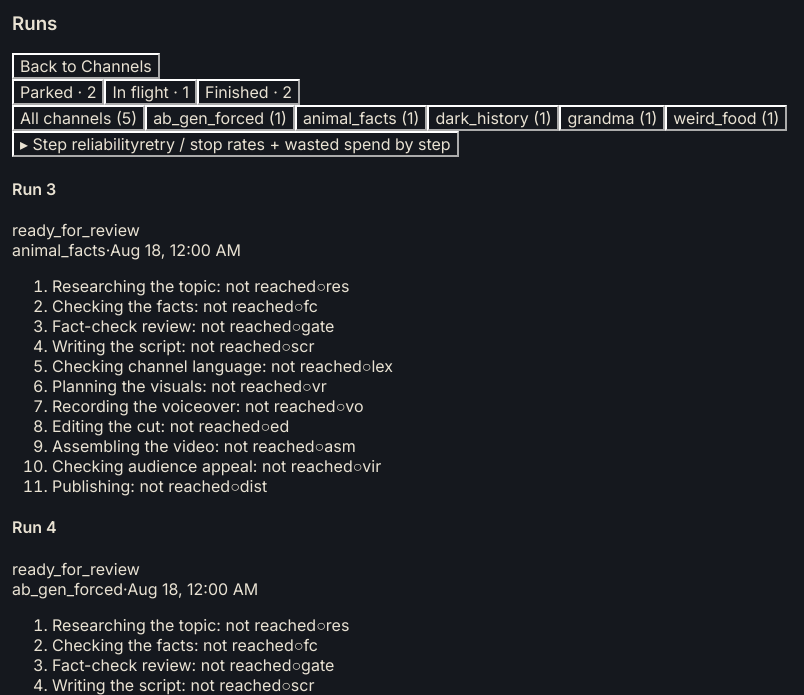
Test: RunsHub archive controls › keeps a global channel selected on a zero-row lifecycle so counts, rows, and off-switch agree
What coordinates should you click on to do the following:
click the tab named "Finished 2"
I would click on:
 (249, 92)
Its box is [197, 79, 300, 105].
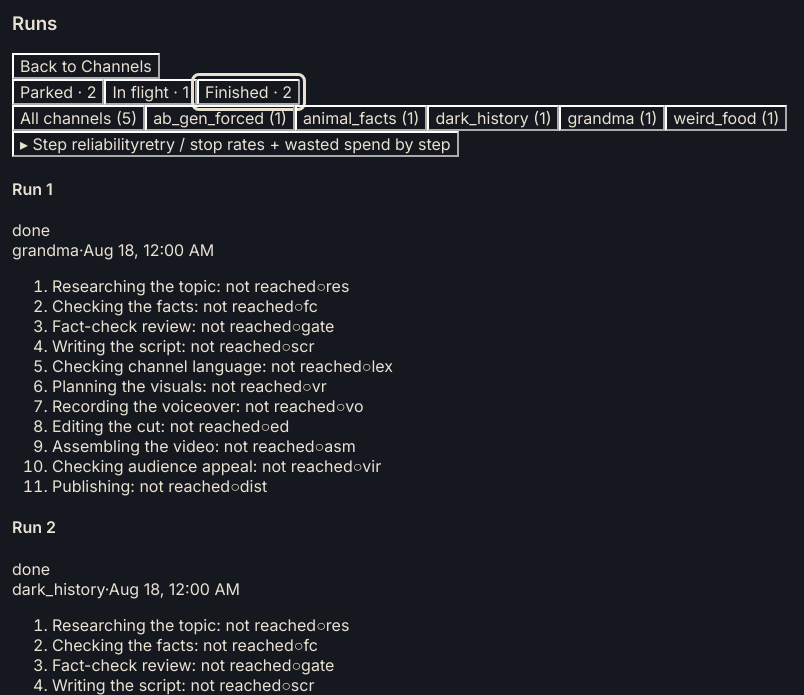
What coordinates should you click on to do the following:
click the button "grandma (1)"
I would click on:
 (612, 118)
Its box is [560, 105, 665, 131].
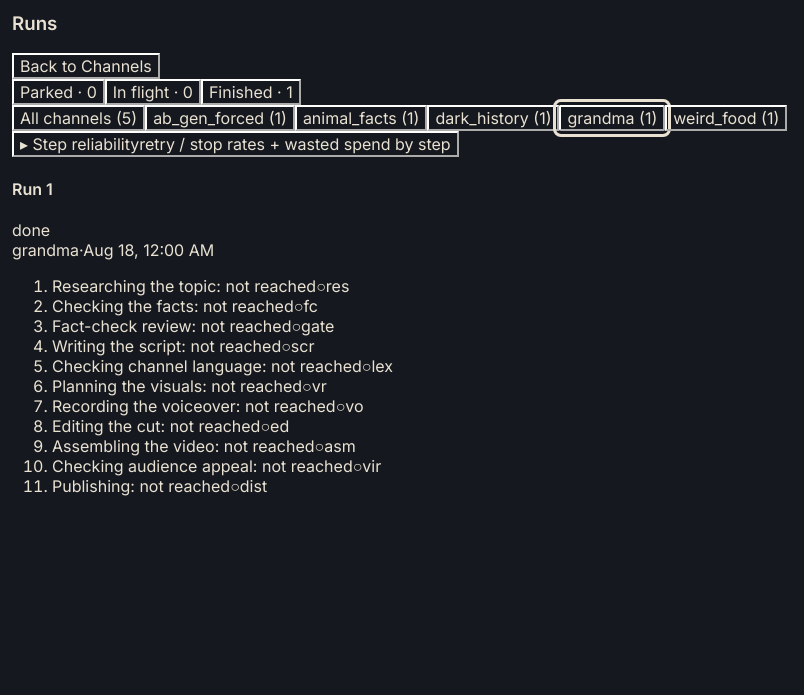
Now the heading "Run 1" is shown, box [12, 179, 53, 199]
What coordinates should you click on to do the following:
click the tab named "Parked 0"
I would click on:
 (58, 92)
Its box is [12, 79, 105, 105].
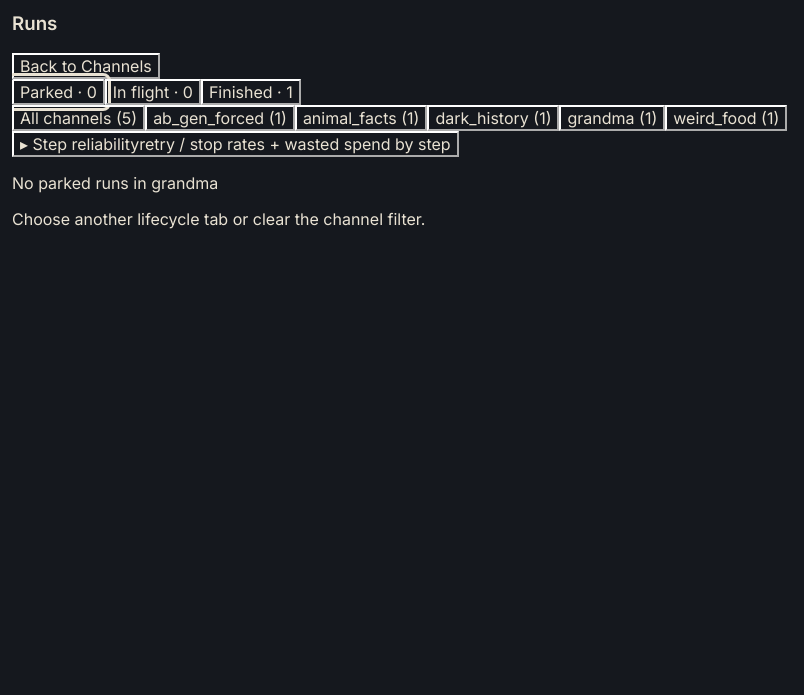
Expected: the tab named "In flight 0" is shown, [105, 79, 201, 105]
Now the text "No parked runs in grandma" is shown, box [12, 173, 218, 193]
